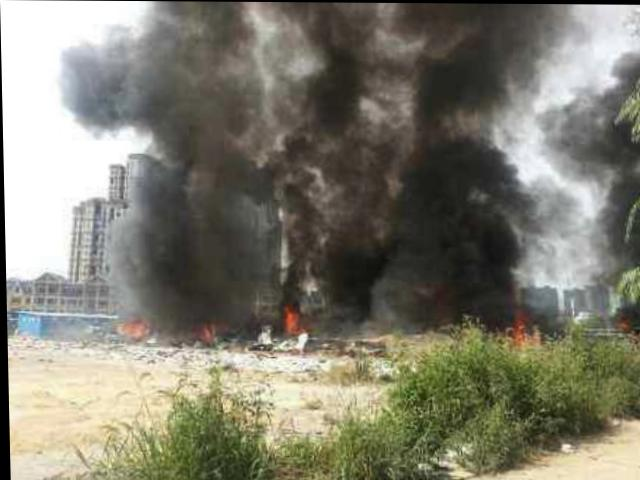fire: (505, 303, 549, 353), (117, 311, 163, 350), (273, 300, 306, 346), (188, 314, 229, 348)
